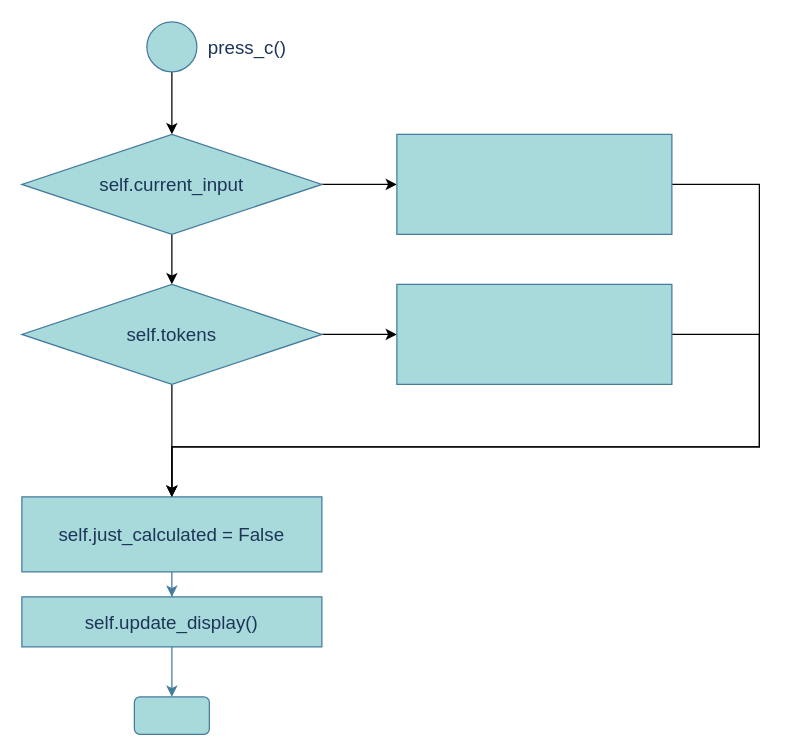
Image size: 791x756. Some labels were removed from this diagram. Here are the shapes that lost their labels. From the top down, the box of each, then its label:
(396, 133, 672, 234): self.current_input = ""
(396, 283, 672, 384): self.tokens.pop()
